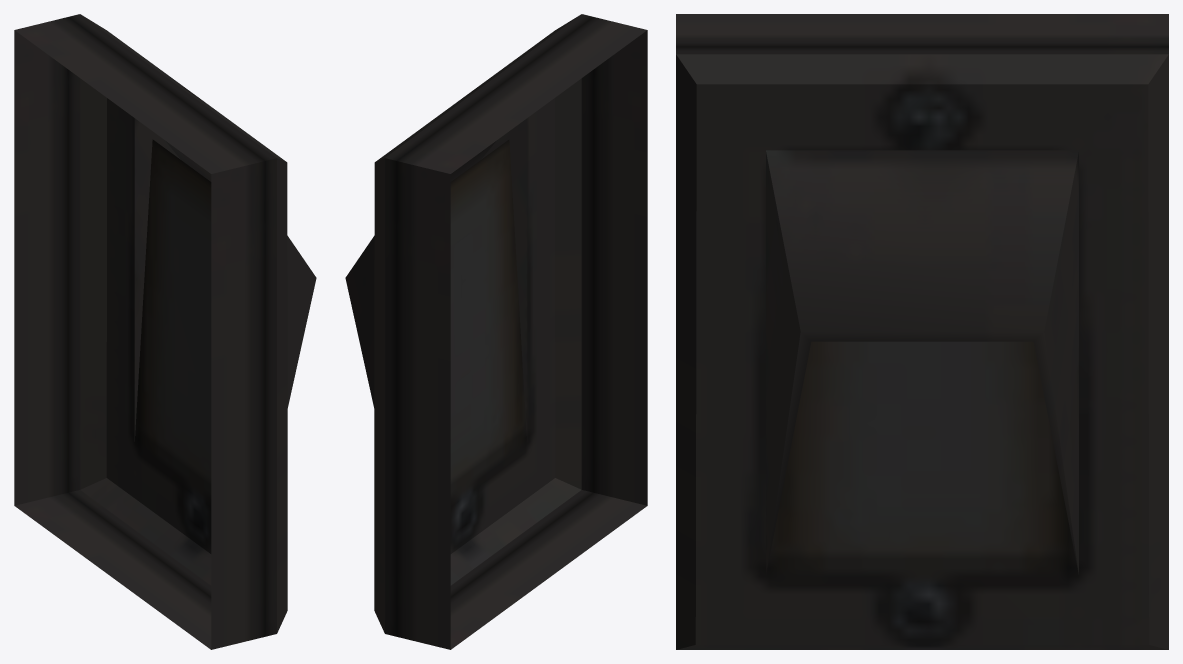
Rendered from light_outdoorwall04_lod0.glb.
3 renders of one model, left to right at view 1: azimuth 30°, elevation 25°; view 2: azimuth 150°, elevation 25°; view 3: azimuth 270°, elevation 25°, orthographic. The views are drawn at different scales.
Parts seen in each view (by area): view 1: surf0; view 2: surf0; view 3: surf0.
Boxes of the visible parts, x1,y1,x2,y2 form: surf0: (14, 14, 316, 649); surf0: (345, 14, 647, 649); surf0: (676, 14, 1168, 649).
Size of the model in its own units: 1.36 by 4 by 3.
